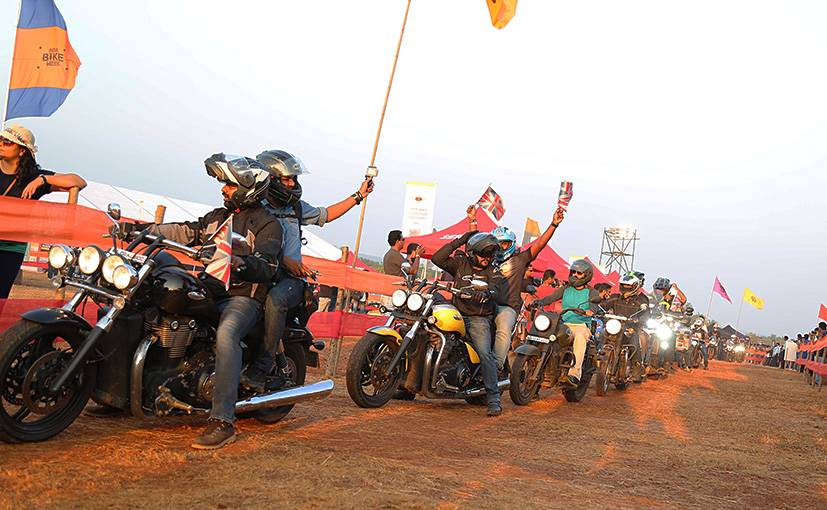with_helmet: (195, 152, 273, 216), (464, 234, 499, 271), (568, 261, 594, 285)
